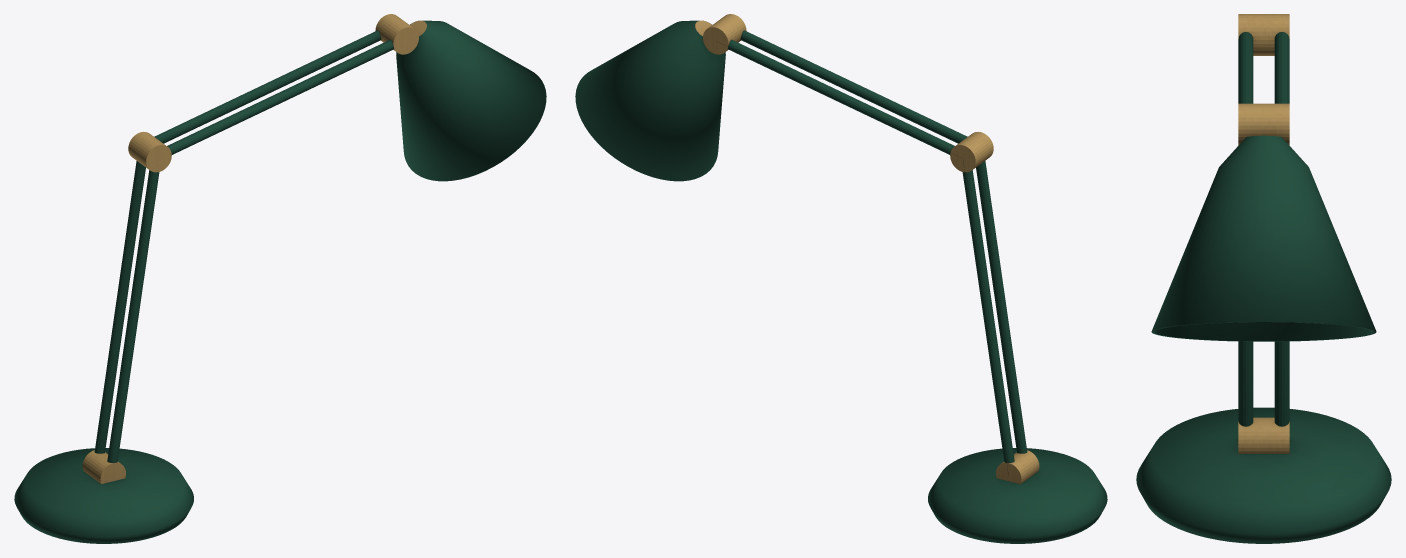
Rendered from desk-green.glb.
3 renders of one model, left to right at view 1: azimuth 30°, elevation 25°; view 2: azimuth 150°, elevation 25°; view 3: azimuth 270°, elevation 25°, orthographic. The views are drawn at different scales.
Visible parts, largest first — view 1: paint_primary_lamp, brass; view 2: paint_primary_lamp, brass; view 3: paint_primary_lamp, brass.
Part boxes in pixels (x1,y1,x2,y2): paint_primary_lamp: (14,20,546,543); brass: (82,14,426,484); paint_primary_lamp: (575,20,1107,543); brass: (695,14,1039,484); paint_primary_lamp: (1136,32,1391,543); brass: (1238,14,1289,453).
Bounding box in the file's own units: 0.555 × 0.434 × 0.17.
Materials: 3 (2 with a texture image).
